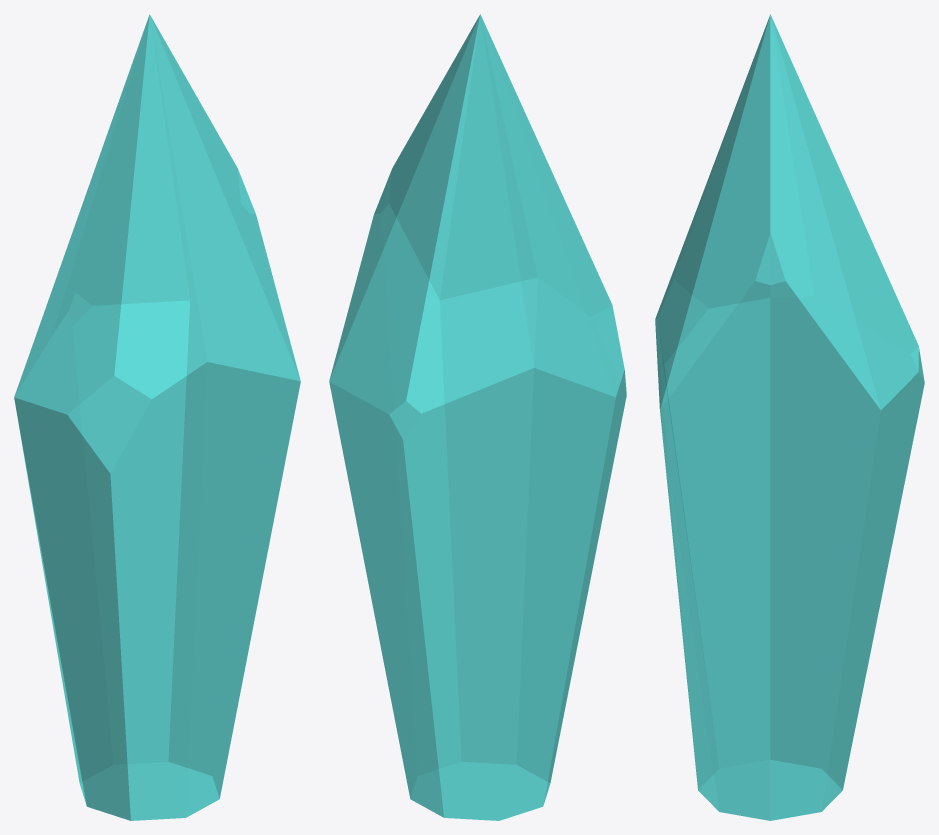
The model's file is otros_objetos 3.fbx.
The picture shows the model from 3 angles, left to right: view 1: azimuth 30°, elevation 25°; view 2: azimuth 150°, elevation 25°; view 3: azimuth 270°, elevation 25°; orthographic projection.
Visible parts, largest first — view 1: cristal1; view 2: cristal1; view 3: cristal1.
Boxes of the visible parts, box(x1,y1,x2,y2) form: cristal1: box(14, 14, 300, 820); cristal1: box(329, 14, 626, 820); cristal1: box(655, 14, 924, 820).
Size of the model in its own units: 57.83 by 183 by 57.59.
